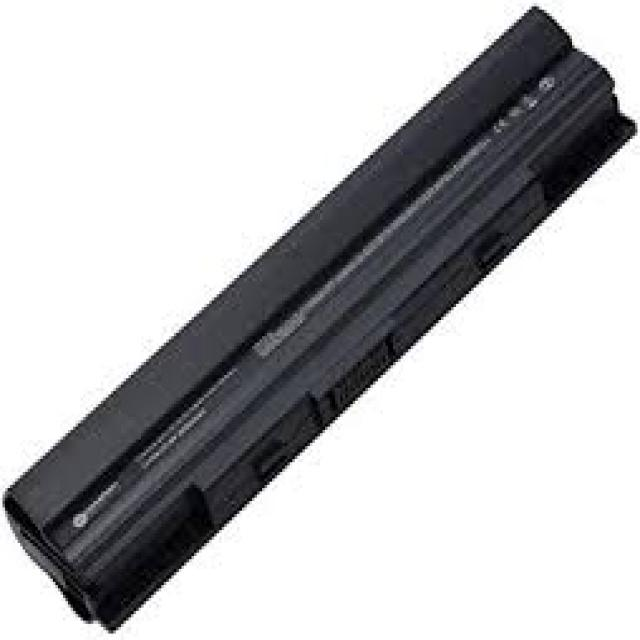hazard: (0, 10, 640, 640)
